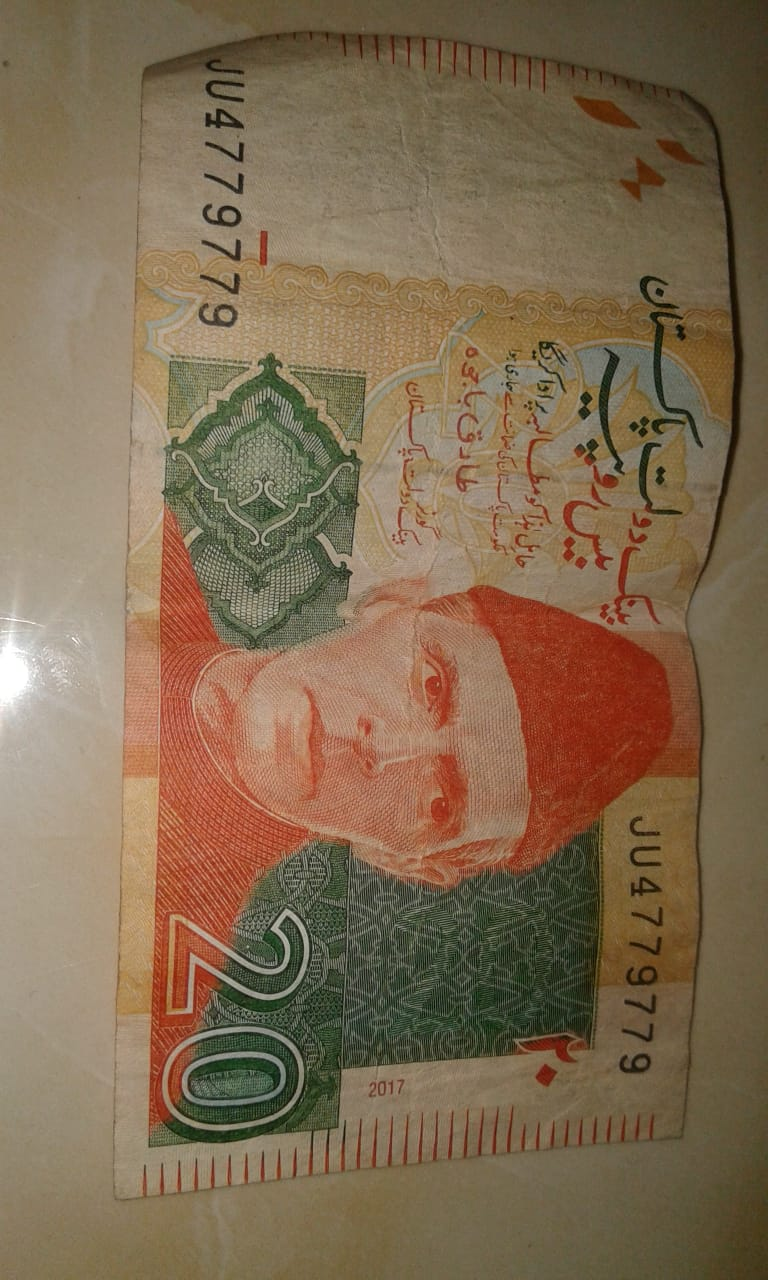20 rupee: (112, 44, 741, 1245)
